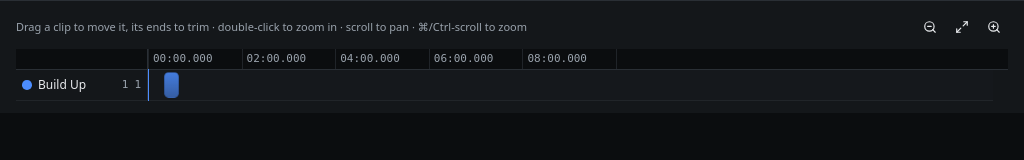
Test: a clip that cannot hold trim handles › offers its handles once a double-click has zoomed in
Double-click the button named "Build Up from": coordinates (171, 85) x1=164 y1=72 x2=179 y2=98
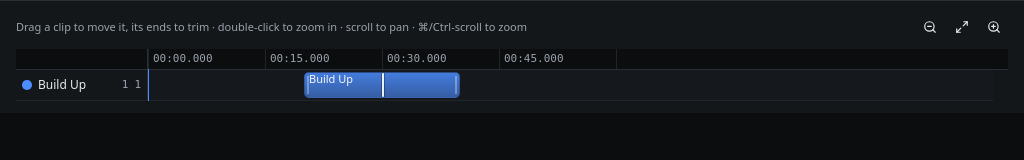
Check: the button named "Trim the start of Build Up" is shown, box x1=304 y1=72 x2=312 y2=98
